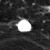node: (16, 19, 32, 33), (42, 19, 46, 24), (31, 3, 36, 6)
